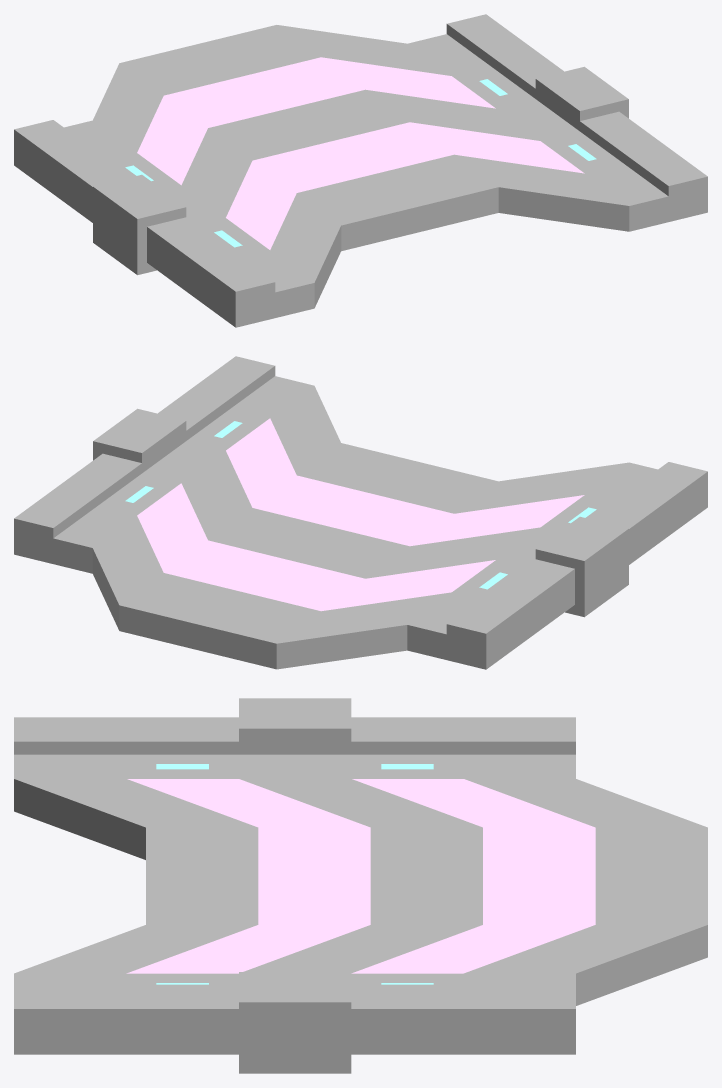
File: FUT0410047.fbx
3 views of the same model, one above another, from view 1: azimuth 30°, elevation 25°; view 2: azimuth 150°, elevation 25°; view 3: azimuth 270°, elevation 25° (orthographic). The views are drawn at different scales.
Visible parts, largest first — view 1: smFUT0410047; view 2: smFUT0410047; view 3: smFUT0410047.
Part boxes in pixels (x1,y1,x2,y2): smFUT0410047: [14, 14, 707, 327]; smFUT0410047: [14, 356, 707, 669]; smFUT0410047: [14, 698, 707, 1073].
Size of the model in its own units: 550 by 60.07 by 531.
